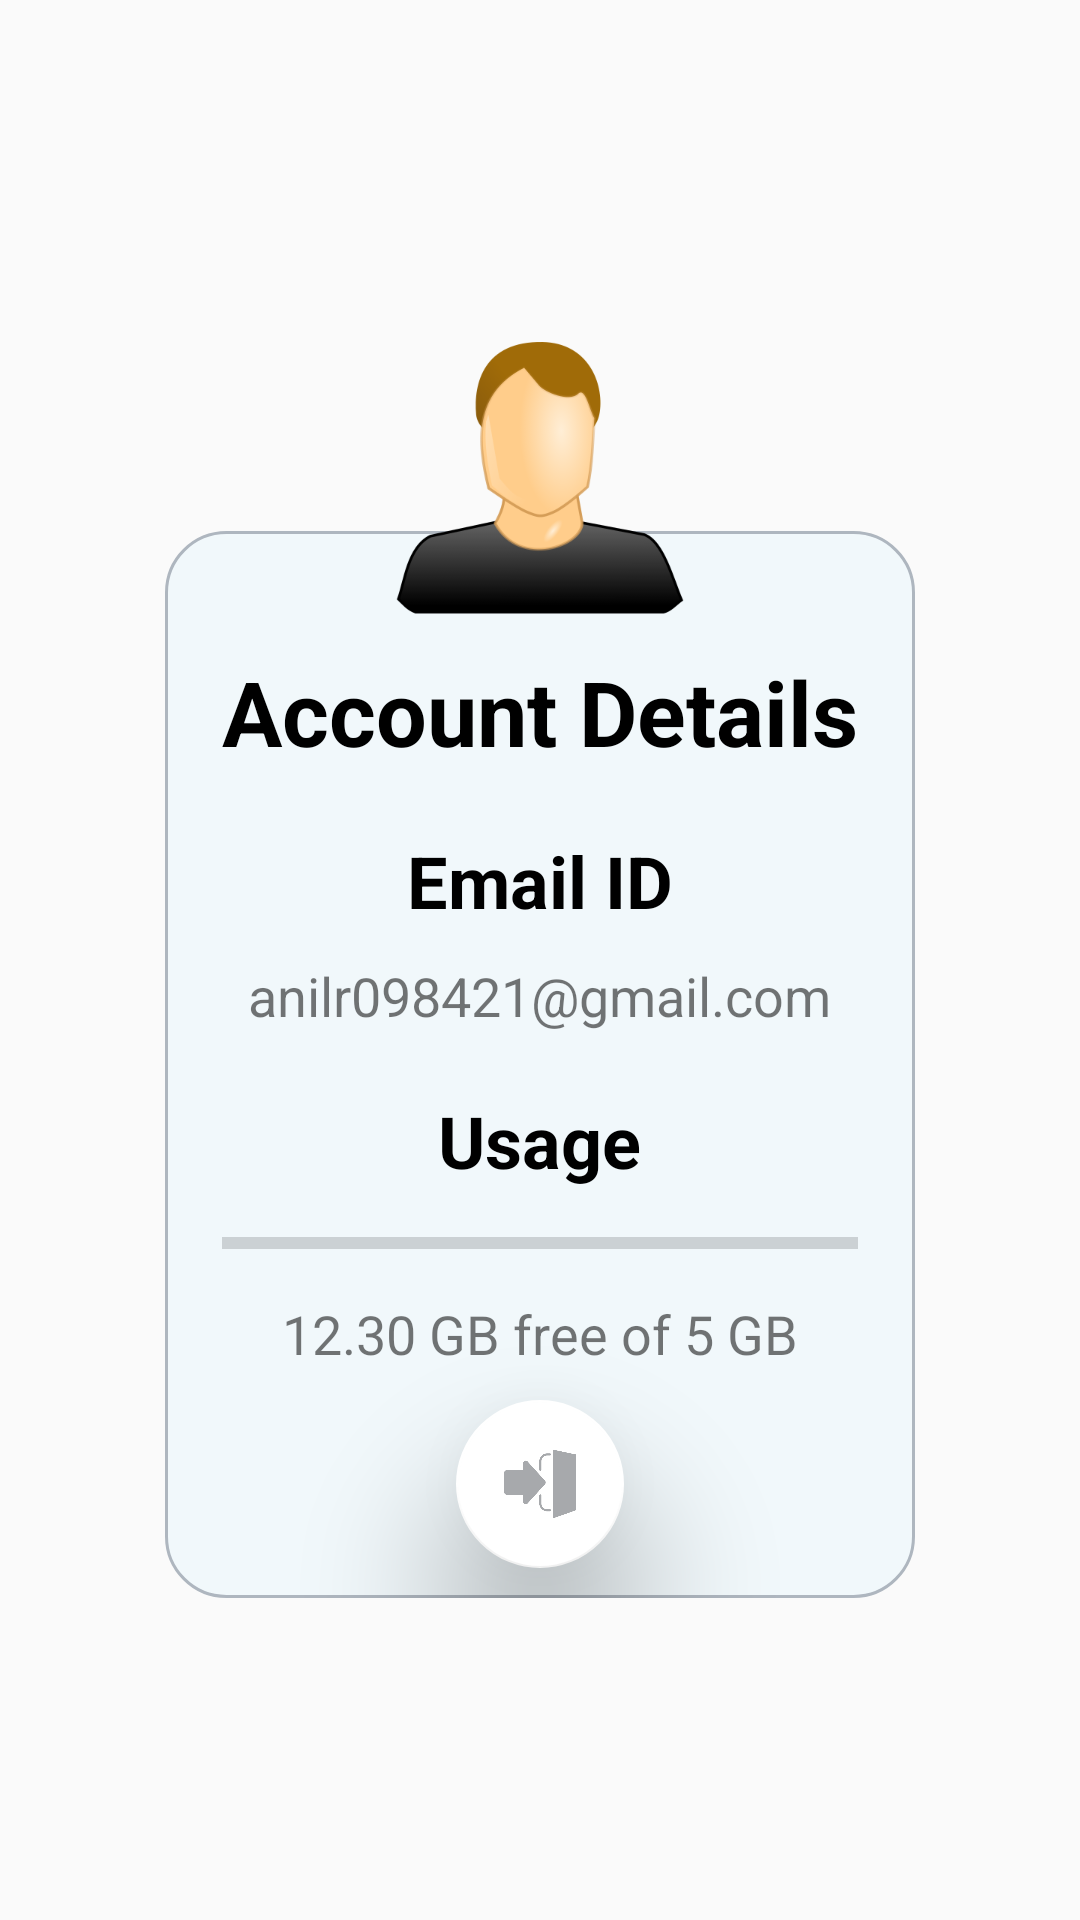

Locate icon controls on the screen. Image size 1080px×1920px, boxes as (x1, y1, x2, y2).
sign out: (504, 1450, 576, 1518)
user: (390, 342, 690, 614)
